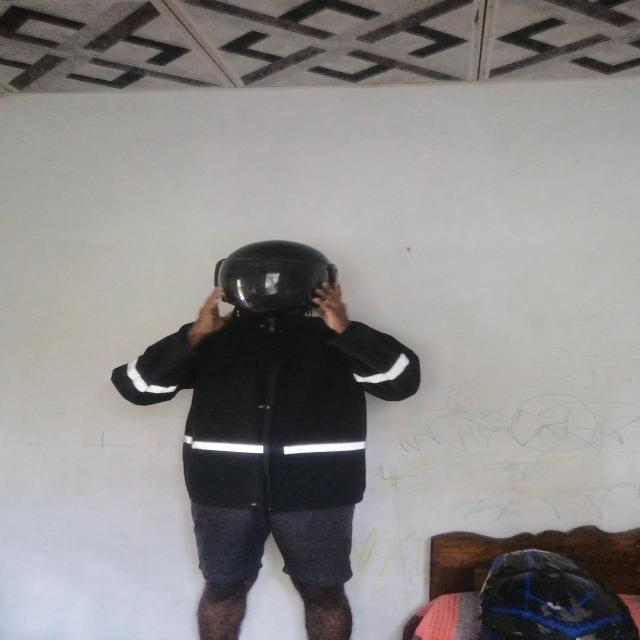Helmet_Wearer: (206, 236, 342, 322)
Jacket_Wearer: (128, 300, 416, 509)
Person: (138, 222, 424, 636)
